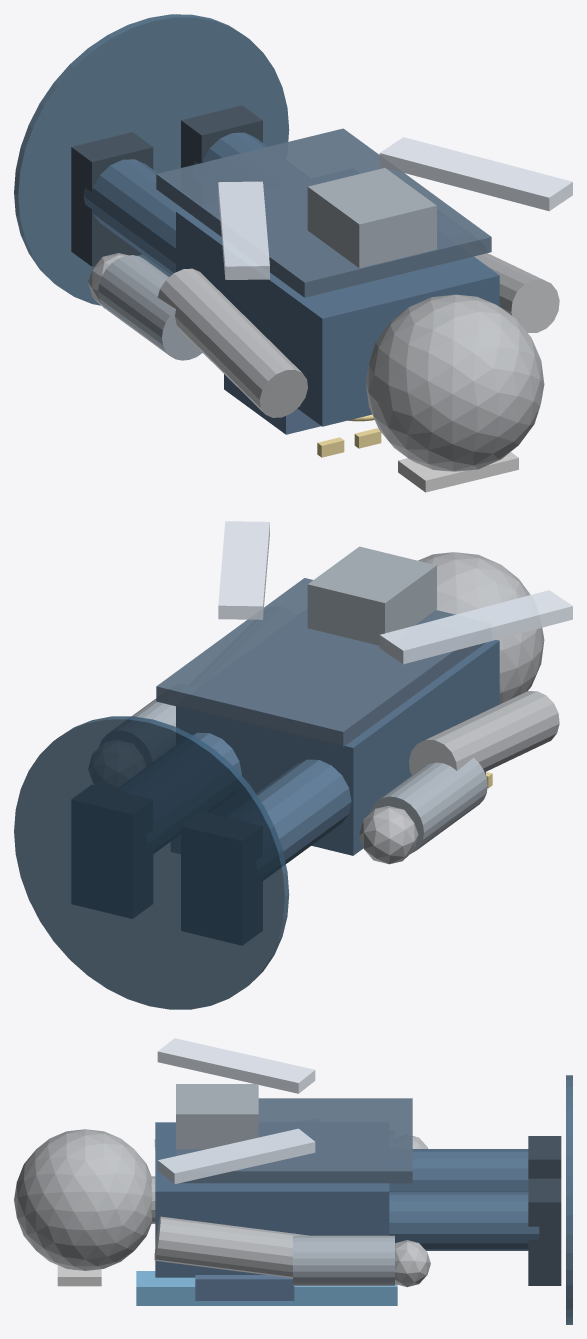
Rendered from SW_NPC_008_hesh_sparkline.glb.
3 views of the same model, one above another, from view 1: azimuth 30°, elevation 25°; view 2: azimuth 150°, elevation 25°; view 3: azimuth 270°, elevation 25° (orthographic). The views are drawn at different scales.
Visible parts, largest first — view 1: round_base_plate, head, torso_uniform, storm_cloak, wingpack_core, left_upper_arm, right_wing_rig, left_leg, left_forearm_gauntlet, left_boot, left_wing_rig, right_upper_arm (+5 smaller); view 2: round_base_plate, storm_cloak, torso_uniform, wingpack_core, left_upper_arm, head, left_wing_rig, left_leg, left_forearm_gauntlet, right_wing_rig, left_hand, right_forearm_gauntlet (+1 smaller); view 3: head, torso_uniform, storm_cloak, right_leg, right_upper_arm, left_leg, right_forearm_gauntlet, wingpack_core, rank_sash, right_wing_rig, left_wing_rig, right_boot (+5 smaller).
Part boxes in pixels (x1,y1,x2,y2): round_base_plate: (14, 14, 289, 305); head: (365, 294, 544, 471); torso_uniform: (176, 209, 499, 426); storm_cloak: (156, 128, 491, 297); wingpack_core: (307, 168, 436, 268); left_upper_arm: (157, 268, 307, 417); right_wing_rig: (379, 137, 572, 211); left_leg: (83, 159, 183, 274); left_forearm_gauntlet: (98, 255, 202, 360); left_boot: (71, 132, 153, 266); left_wing_rig: (218, 181, 269, 279); right_upper_arm: (474, 253, 559, 332); round_base_plate: (14, 716, 289, 1009); storm_cloak: (156, 578, 485, 746); torso_uniform: (176, 640, 499, 855); wingpack_core: (307, 546, 436, 645); left_upper_arm: (409, 691, 559, 774); head: (418, 552, 544, 703); left_wing_rig: (379, 590, 572, 664); left_leg: (256, 759, 351, 863); left_forearm_gauntlet: (370, 757, 487, 853); right_wing_rig: (218, 521, 269, 619); left_hand: (359, 806, 418, 864); right_forearm_gauntlet: (132, 698, 175, 726); head: (14, 1129, 152, 1270); torso_uniform: (155, 1122, 389, 1277); storm_cloak: (176, 1098, 412, 1183); right_leg: (389, 1191, 539, 1250); right_upper_arm: (154, 1216, 308, 1278); left_leg: (389, 1149, 528, 1191); right_forearm_gauntlet: (293, 1235, 394, 1285); wingpack_core: (176, 1084, 258, 1149); rank_sash: (136, 1271, 397, 1305); right_wing_rig: (157, 1128, 315, 1184); left_wing_rig: (157, 1038, 315, 1093); right_boot: (528, 1178, 561, 1285).
Bounding box in the file's own units: 1.16 × 0.9072 × 2.03.
